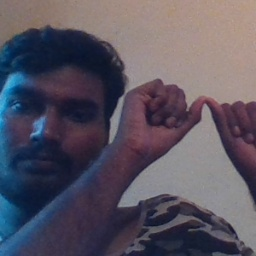A: (157, 81, 255, 148)
